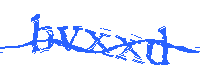b: (29, 14, 55, 53)
d: (146, 24, 171, 69)
v: (57, 23, 82, 53)
x: (114, 29, 145, 64), (85, 26, 111, 58)
